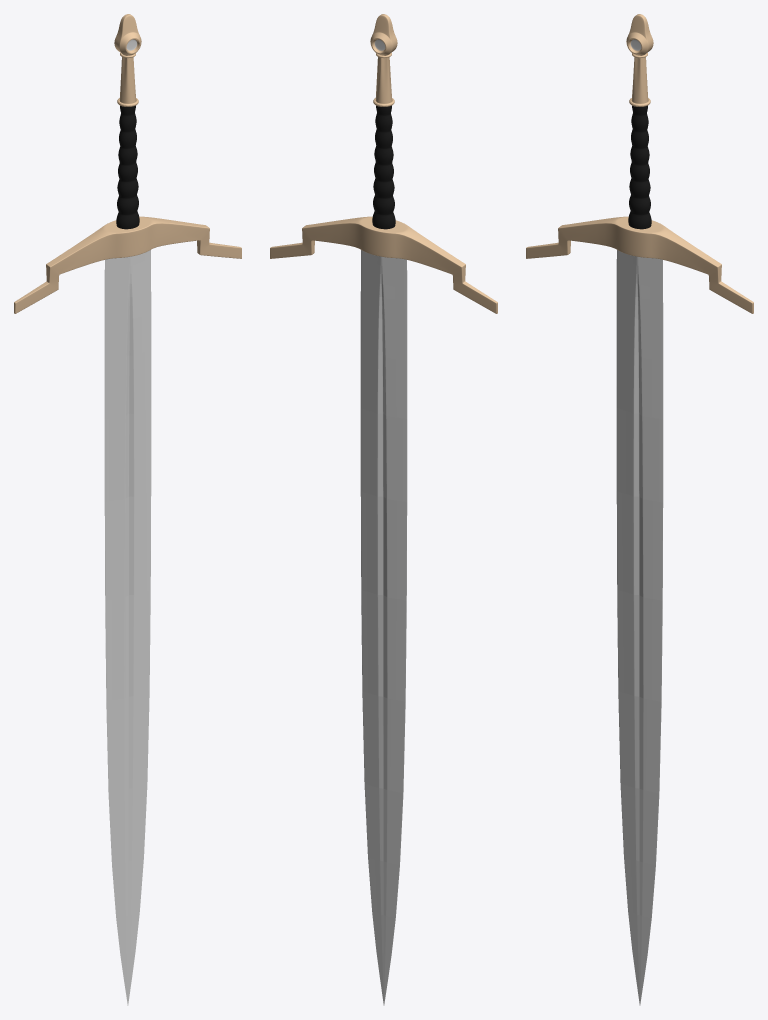
Rendered from sword.fbx.
3 views of the same model, side by side, from view 1: azimuth 30°, elevation 25°; view 2: azimuth 150°, elevation 25°; view 3: azimuth 330°, elevation 25° (orthographic).
Parts seen in each view (by area): view 1: Cube, Cylinder, Cylinder.001, Cylinder.003, Cylinder.002; view 2: Cube, Cylinder, Cylinder.001, Cylinder.003, Cylinder.002; view 3: Cube, Cylinder, Cylinder.001, Cylinder.003, Cylinder.002.
Boxes of the visible parts, bbox=[...] form: Cube: bbox=[104, 250, 151, 1005]; Cylinder: bbox=[14, 216, 241, 313]; Cylinder.001: bbox=[116, 105, 139, 229]; Cylinder.003: bbox=[114, 14, 141, 55]; Cylinder.002: bbox=[117, 53, 138, 106]; Cube: bbox=[360, 250, 407, 1005]; Cylinder: bbox=[270, 216, 497, 313]; Cylinder.001: bbox=[372, 105, 395, 229]; Cylinder.003: bbox=[370, 14, 397, 55]; Cylinder.002: bbox=[373, 53, 394, 106]; Cube: bbox=[616, 250, 663, 1005]; Cylinder: bbox=[526, 216, 753, 313]; Cylinder.001: bbox=[628, 105, 651, 229]; Cylinder.003: bbox=[626, 14, 653, 55]; Cylinder.002: bbox=[629, 53, 650, 106].
Bounding box in the file's own units: 37.96 × 158 × 4.68.
